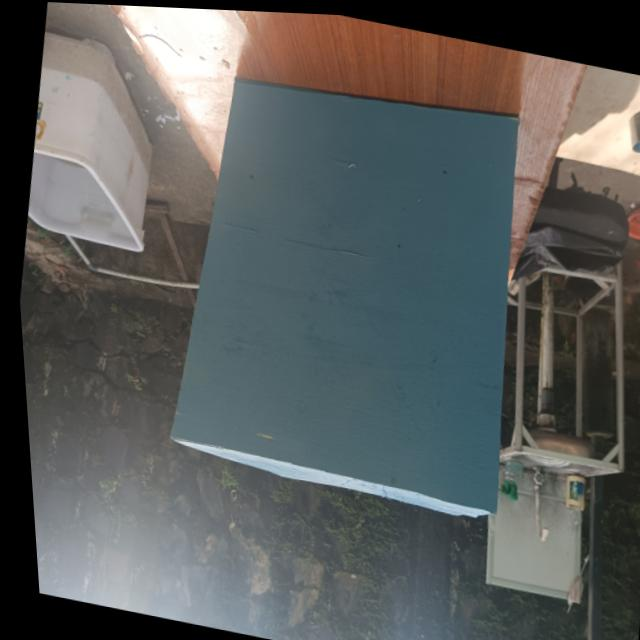blue_box: (136, 42, 547, 518)
